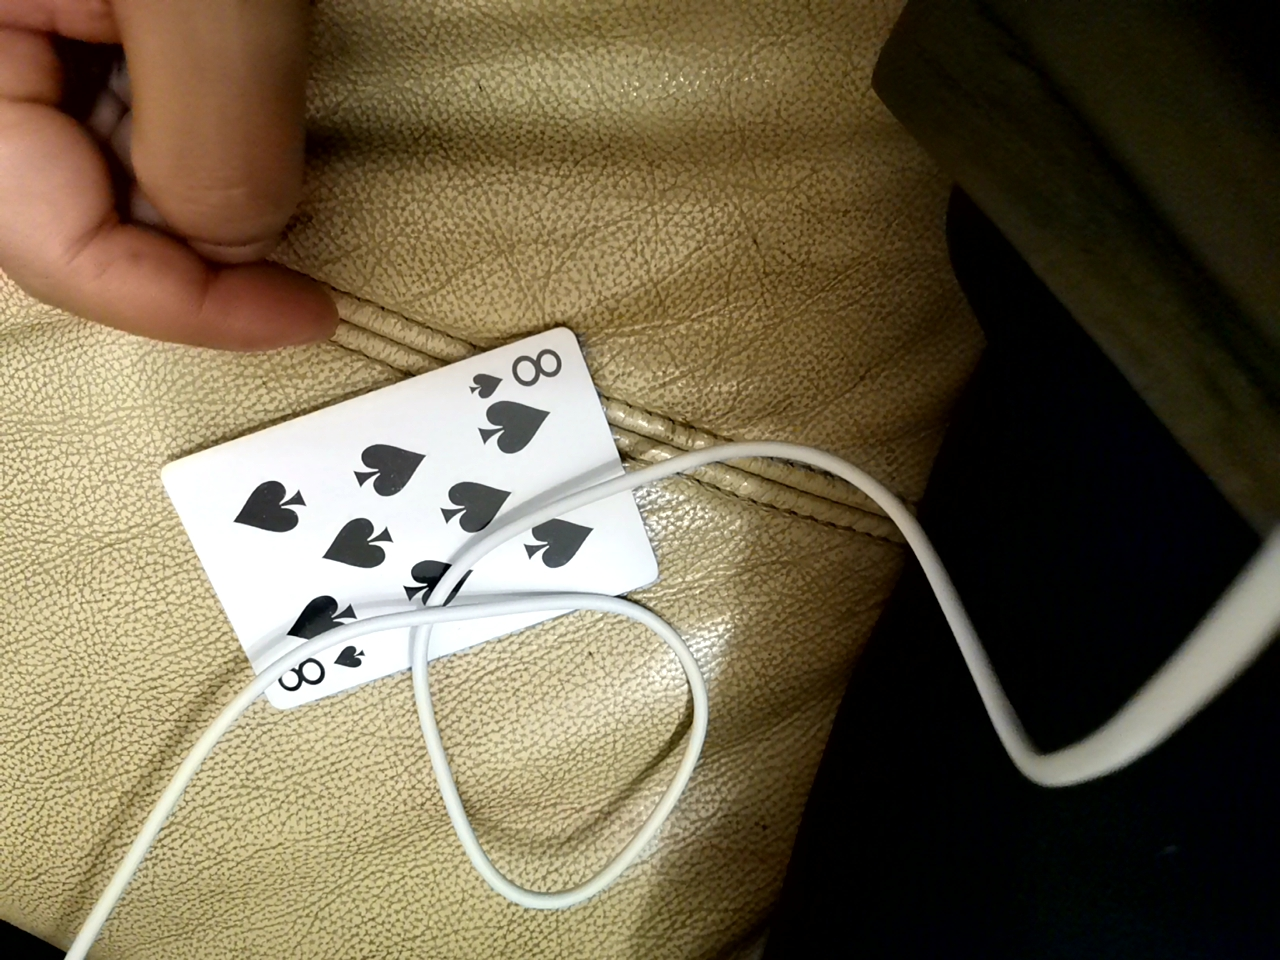ht 8: (167, 330, 632, 712)
